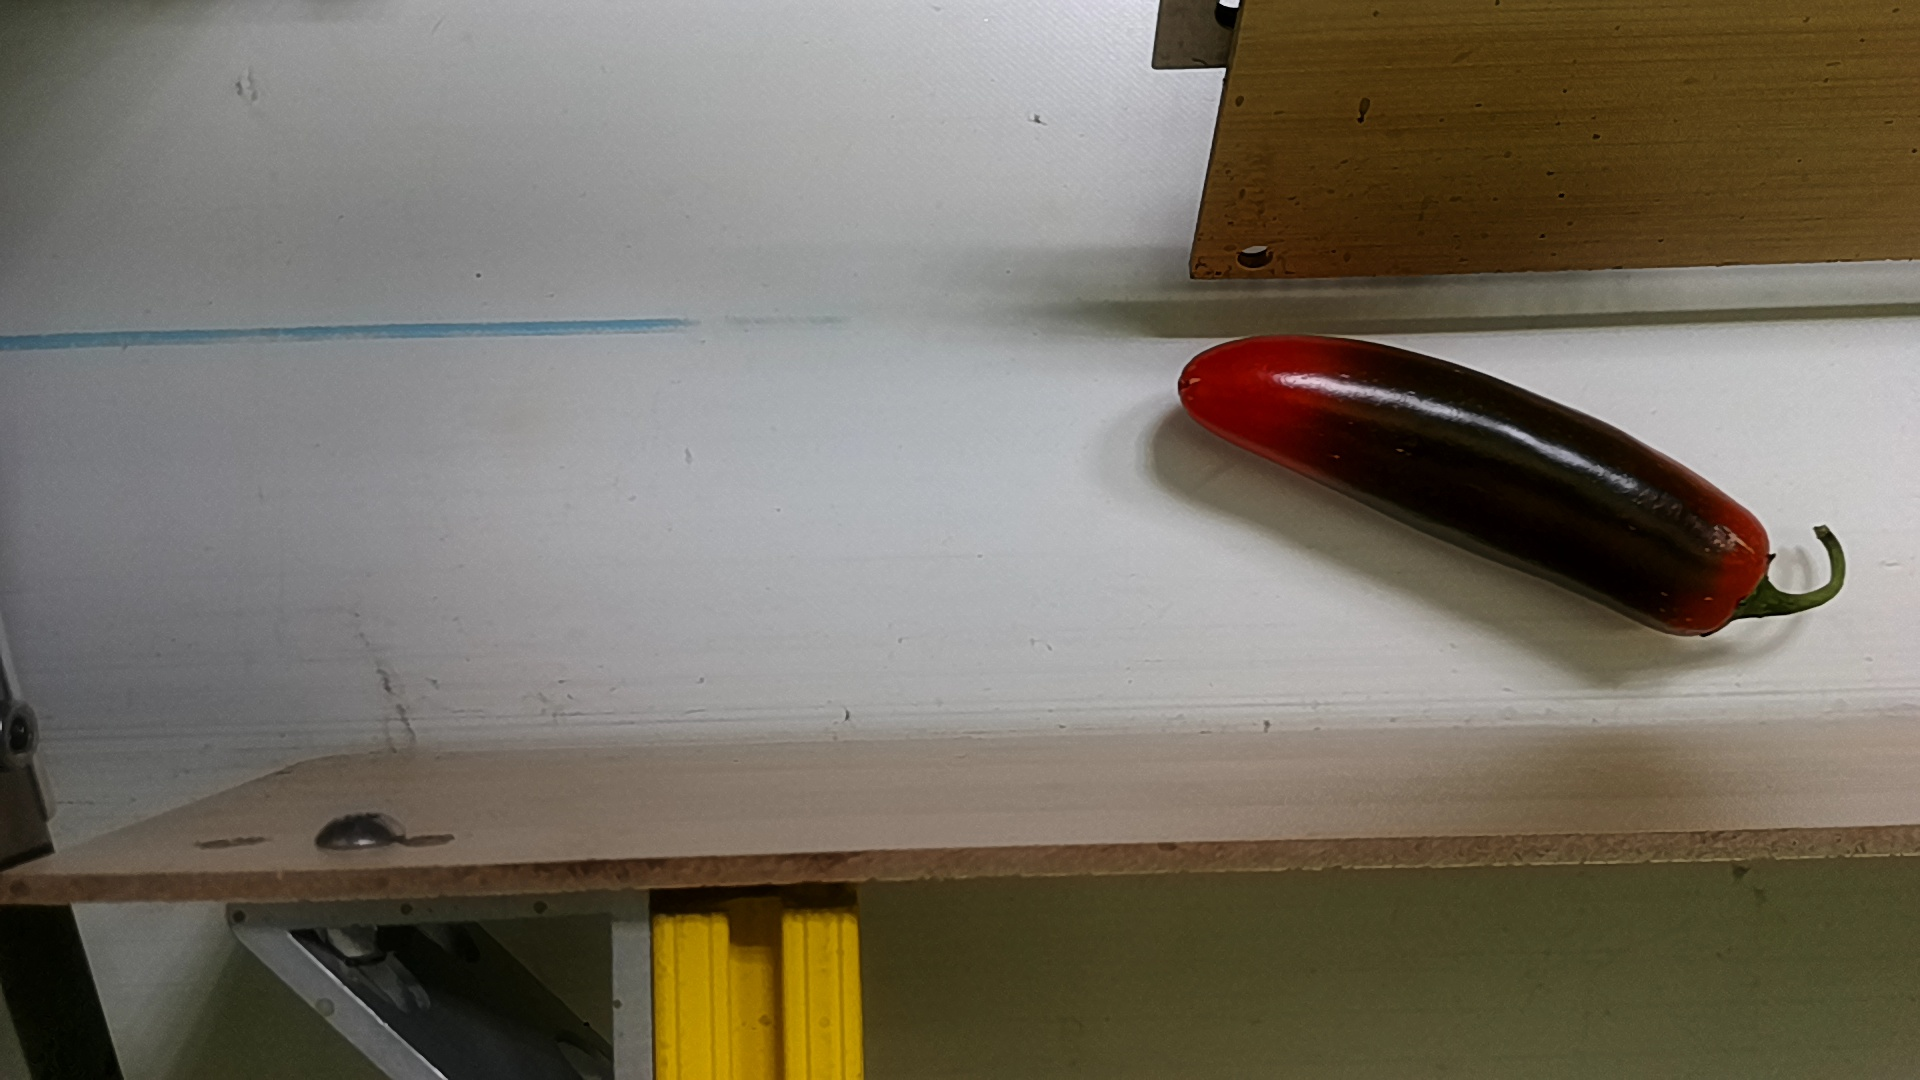Cut Point: (1691, 477, 1789, 645)
